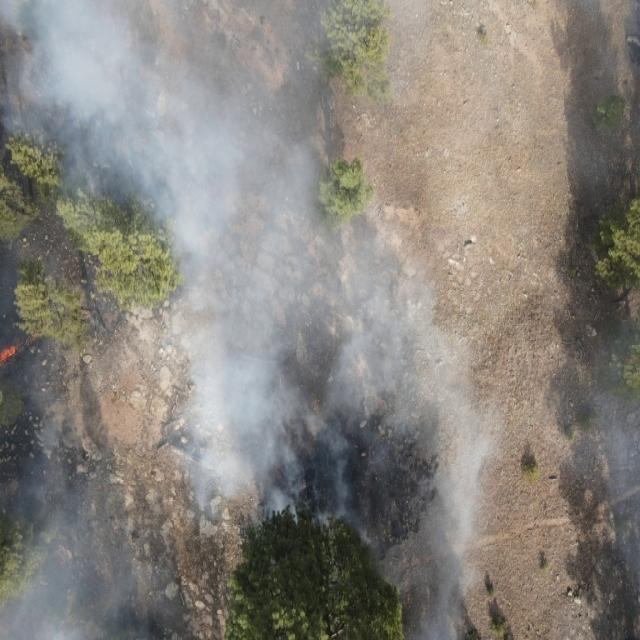fire: (0, 334, 35, 370)
smoke: (0, 0, 431, 640), (430, 330, 507, 640), (579, 393, 640, 604), (578, 0, 640, 200)
